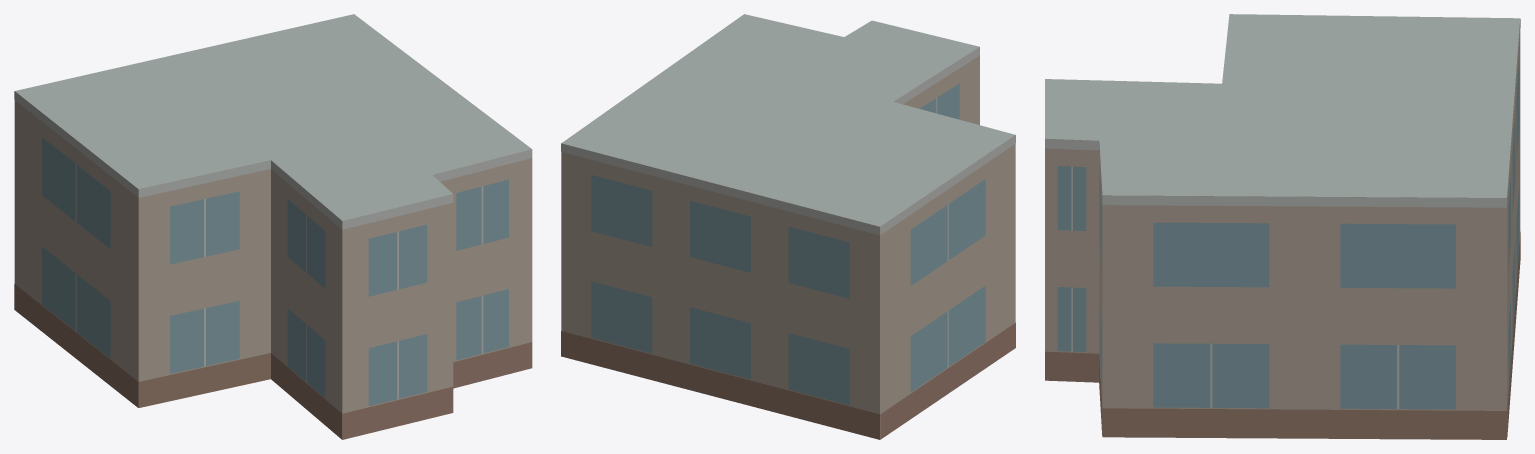
Rendered from survey-upis-32671365.glb.
3 views of the same model, side by side, from view 1: azimuth 30°, elevation 25°; view 2: azimuth 150°, elevation 25°; view 3: azimuth 270°, elevation 25° (orthographic). The views are drawn at different scales.
Parts seen in each view (by area): view 1: survey-upis-32671365.tmp; view 2: survey-upis-32671365.tmp; view 3: survey-upis-32671365.tmp.
Part boxes in pixels (x1,y1,x2,y2): survey-upis-32671365.tmp: [14, 14, 532, 439]; survey-upis-32671365.tmp: [561, 14, 1015, 439]; survey-upis-32671365.tmp: [1045, 14, 1520, 439].
Size of the model in its own units: 9.96 by 6.1 by 10.88.
